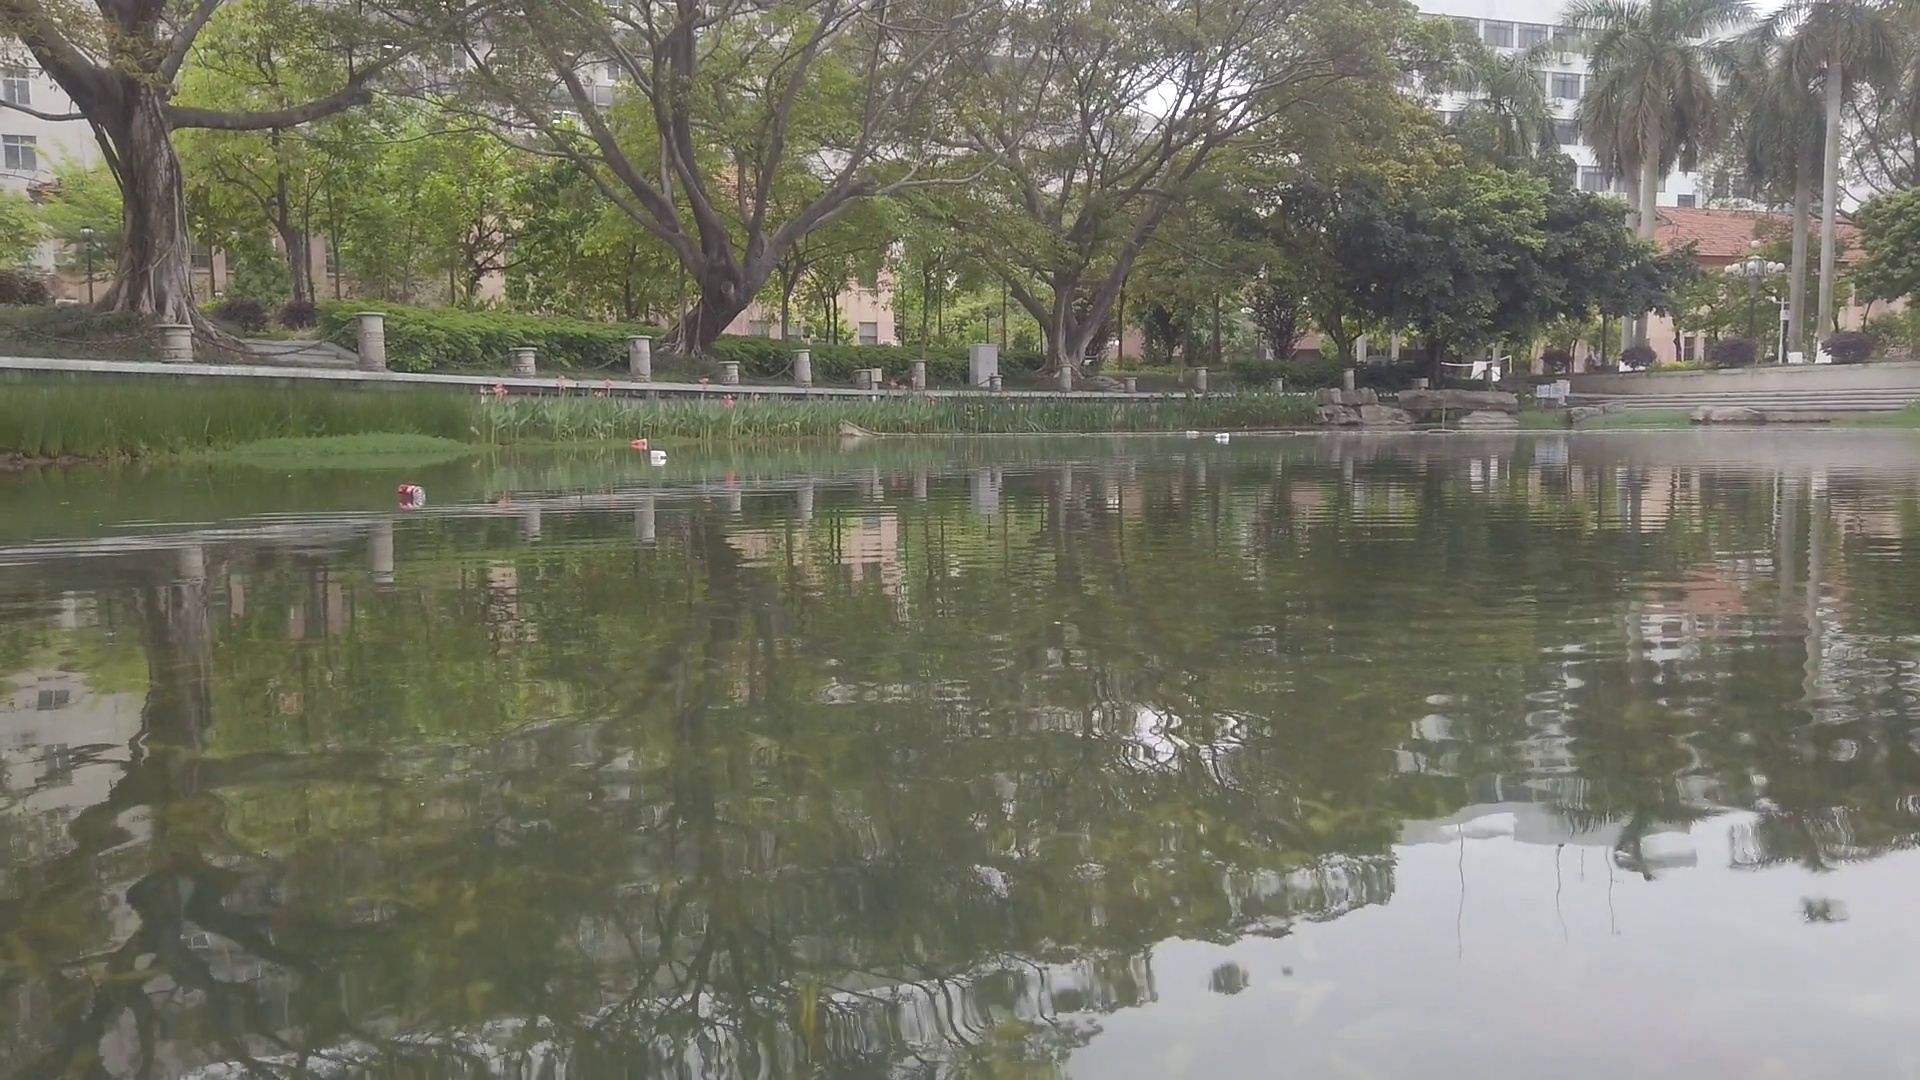bottle: (398, 483, 425, 500), (630, 439, 647, 448), (1187, 429, 1200, 436), (1216, 433, 1229, 439)
carton: (651, 448, 667, 463)
